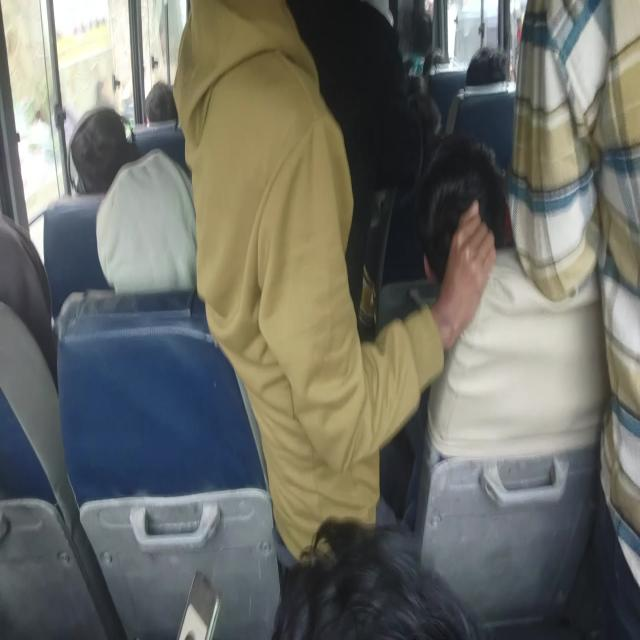person: (513, 0, 639, 602), (72, 105, 200, 295), (276, 516, 480, 634), (173, 0, 309, 145), (412, 134, 507, 287), (0, 195, 57, 397), (41, 194, 112, 322), (68, 106, 138, 196), (446, 85, 516, 172), (426, 64, 470, 136), (134, 119, 188, 176), (464, 47, 510, 88), (144, 80, 177, 126), (412, 8, 433, 57), (422, 47, 448, 80)
